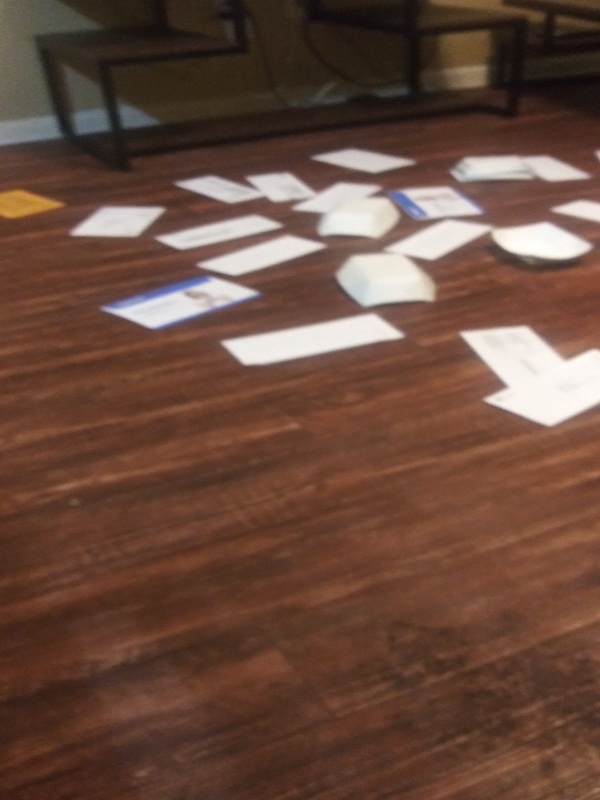plate: (478, 216, 597, 276), (330, 252, 446, 308), (312, 191, 405, 245), (443, 152, 541, 187)
